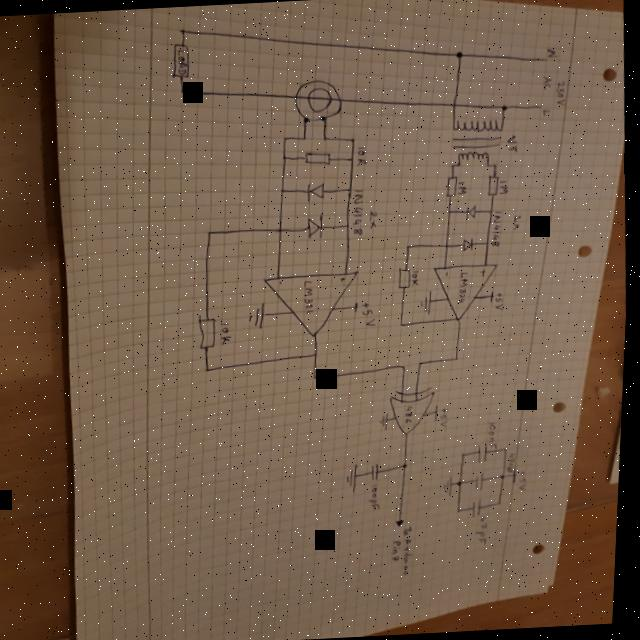capacitor: (474, 471, 492, 492), (479, 443, 495, 464), (474, 498, 487, 518), (373, 462, 385, 482)
crossover: (451, 102, 458, 108)
diode: (304, 212, 330, 241), (306, 180, 330, 202), (465, 203, 481, 220), (462, 235, 477, 252)
ground: (250, 302, 270, 331), (347, 464, 365, 494), (419, 290, 436, 314), (446, 474, 459, 497), (381, 413, 395, 432)
inductor: (291, 74, 348, 128)
junction: (454, 50, 465, 59), (178, 27, 187, 35), (277, 226, 286, 234), (302, 116, 310, 125), (179, 88, 187, 96), (405, 462, 413, 469), (501, 105, 509, 112), (280, 188, 288, 195), (345, 222, 352, 230), (206, 367, 215, 373), (503, 472, 509, 480), (322, 136, 330, 142), (402, 364, 410, 370), (314, 352, 322, 358), (350, 136, 358, 142), (282, 155, 290, 161), (456, 356, 464, 362), (347, 188, 355, 194), (484, 241, 492, 247), (282, 136, 289, 142), (301, 136, 308, 142), (463, 451, 470, 457), (401, 322, 408, 328), (445, 242, 452, 248), (419, 361, 427, 366), (448, 208, 454, 214), (460, 508, 466, 514), (208, 230, 214, 236), (407, 244, 413, 250), (315, 374, 321, 380), (501, 500, 507, 506), (461, 482, 467, 488), (505, 447, 511, 452), (489, 209, 495, 213), (320, 118, 326, 121), (494, 164, 498, 168), (453, 164, 457, 168), (352, 156, 356, 160)
resistor: (197, 313, 223, 350), (171, 40, 194, 80), (302, 150, 335, 168), (444, 175, 461, 198), (400, 266, 414, 290), (488, 175, 501, 198)
source: (435, 403, 444, 422), (514, 467, 523, 483), (490, 289, 497, 305), (356, 301, 363, 313)
terminal: (398, 518, 411, 529), (540, 56, 549, 62), (537, 104, 545, 110)
text: (405, 526, 423, 578), (352, 188, 370, 238), (303, 280, 321, 316), (478, 514, 496, 546), (487, 419, 504, 452), (458, 270, 473, 306), (492, 212, 505, 248), (362, 300, 378, 328), (372, 484, 386, 512), (394, 538, 407, 566), (555, 80, 568, 106), (176, 48, 189, 74), (221, 322, 235, 345), (495, 290, 508, 312), (506, 135, 521, 154), (405, 405, 420, 424), (521, 471, 533, 492), (441, 407, 453, 427), (511, 213, 524, 230), (357, 146, 368, 166), (369, 210, 381, 228), (508, 453, 520, 471), (411, 270, 422, 288), (542, 75, 553, 92), (459, 180, 469, 197), (500, 178, 510, 194), (545, 47, 558, 58), (481, 267, 490, 277), (341, 275, 351, 282), (542, 108, 550, 116), (447, 271, 453, 278), (280, 280, 287, 284)
transformer: (449, 118, 506, 168)
